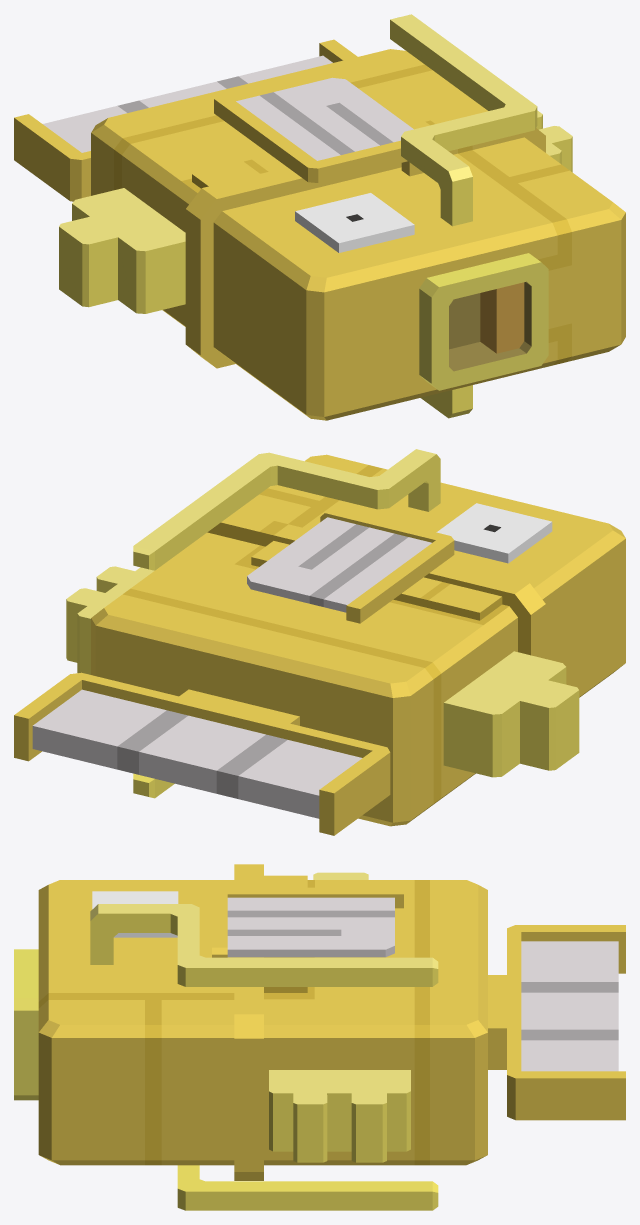
The model's file is model_shiny.obj.
The picture shows the model from 3 angles, top to bottom: view 1: azimuth 30°, elevation 25°; view 2: azimuth 150°, elevation 25°; view 3: azimuth 270°, elevation 25°; orthographic projection.
Parts seen in each view (by area): view 1: 0129_magikarp_shiny; view 2: 0129_magikarp_shiny; view 3: 0129_magikarp_shiny.
Boxes of the visible parts, left/top/right/bottom form: 0129_magikarp_shiny: left=14, top=14, right=625, bottom=420; 0129_magikarp_shiny: left=14, top=449, right=625, bottom=835; 0129_magikarp_shiny: left=14, top=864, right=625, bottom=1210.
Bounding box in the file's own units: 2.4 × 1.18 × 2.7.
1 material, 1 textured.
